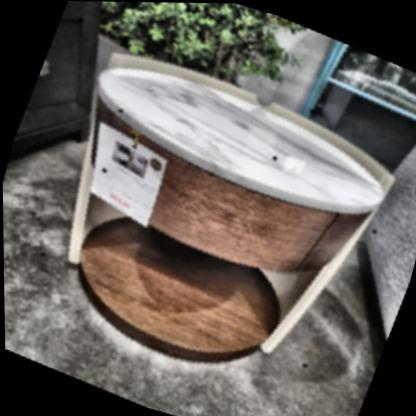Nightstand: (30, 37, 405, 405)
